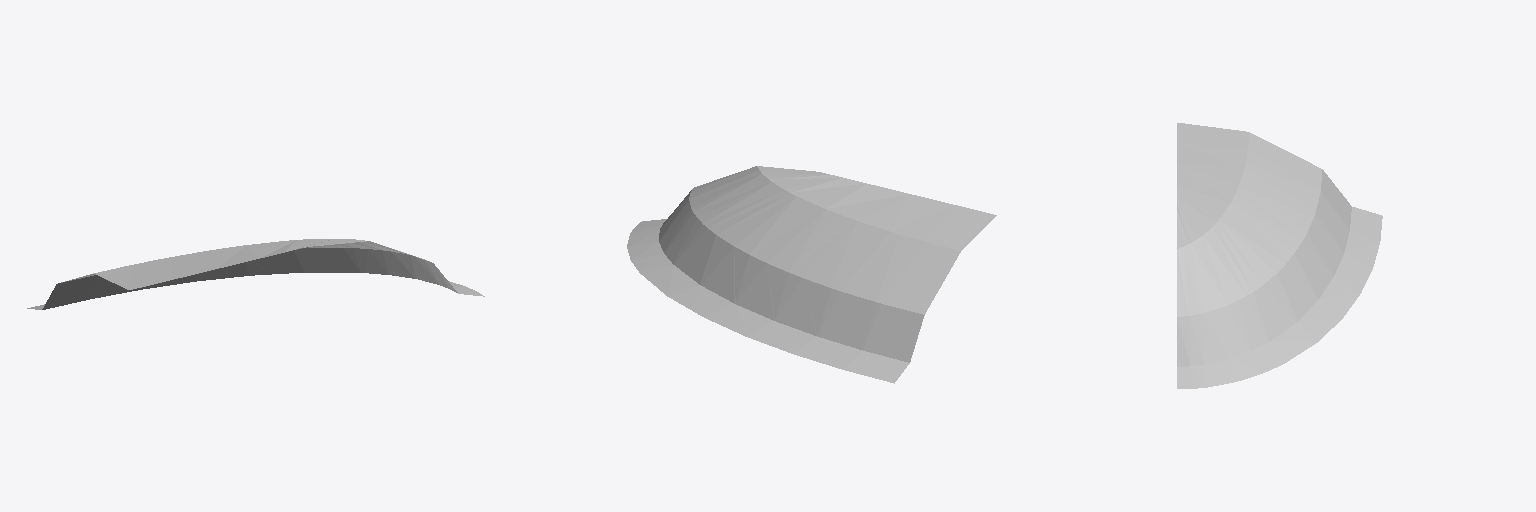
File: Track_Normal_Curve_Inner_1x2.obj
3 views of the same model, side by side, from view 1: azimuth 30°, elevation 25°; view 2: azimuth 150°, elevation 25°; view 3: azimuth 270°, elevation 25° (orthographic).
Parts seen in each view (by area): view 1: object1; view 2: object1; view 3: object1.
Part boxes in pixels (x1,y1,x2,y2): object1: (27, 239, 484, 309); object1: (627, 166, 996, 383); object1: (1177, 123, 1382, 388).
Bounding box in the file's own units: 2 × 0.5 × 1.